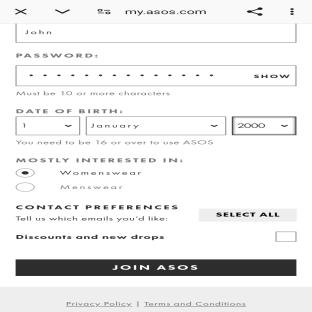Exist: (10, 6, 35, 16)
Filter icon: (95, 7, 114, 17)
Input field: (12, 114, 300, 136), (13, 24, 304, 44)
shareicon: (243, 7, 272, 17)
